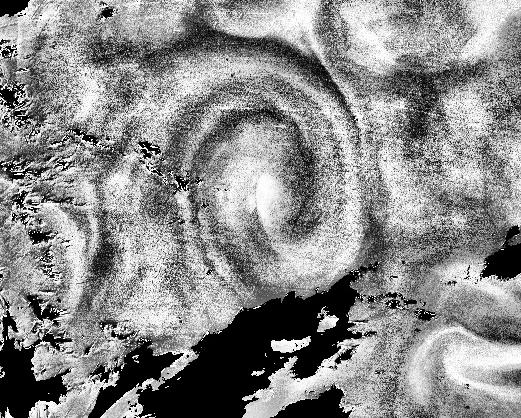AE: (153, 42, 369, 293)
